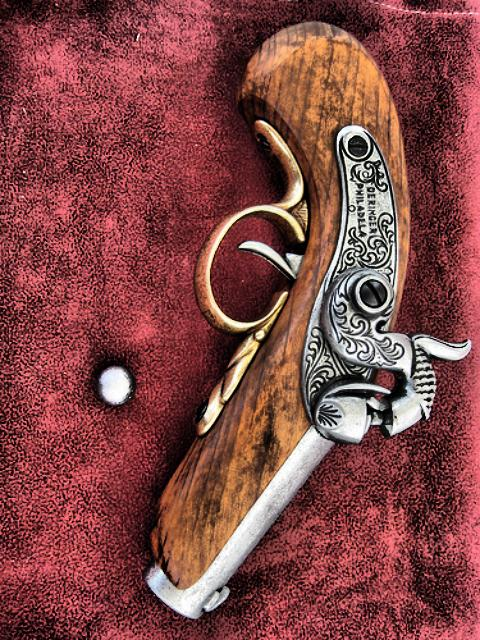pistol: (137, 19, 451, 614)
